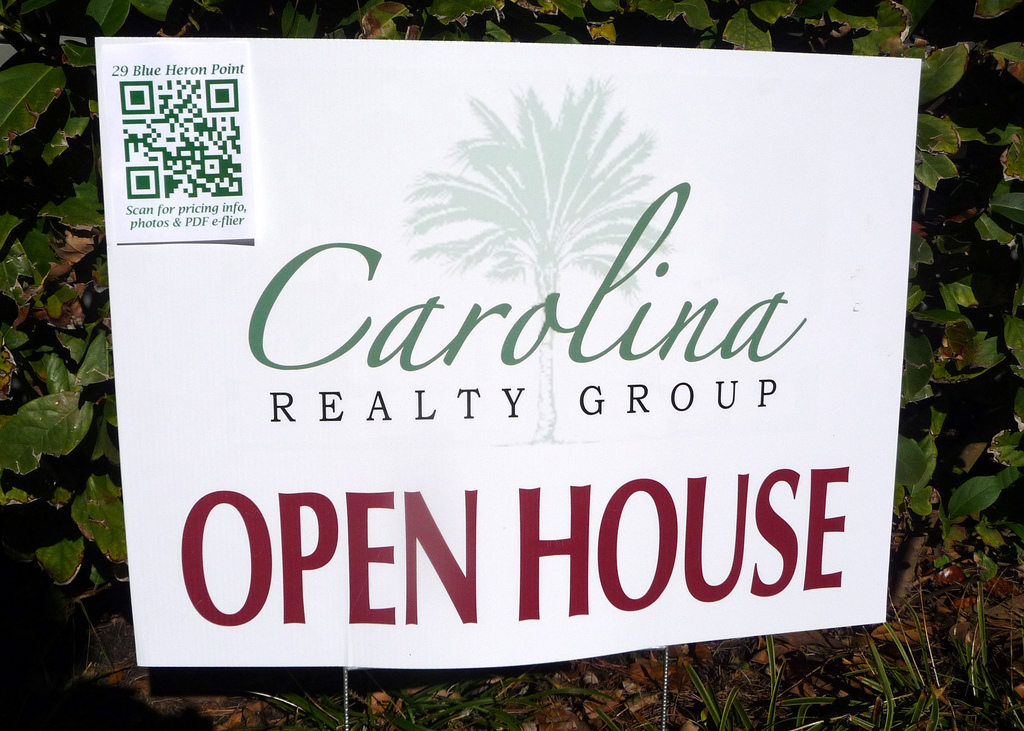QR-CODE: (119, 79, 242, 198)
